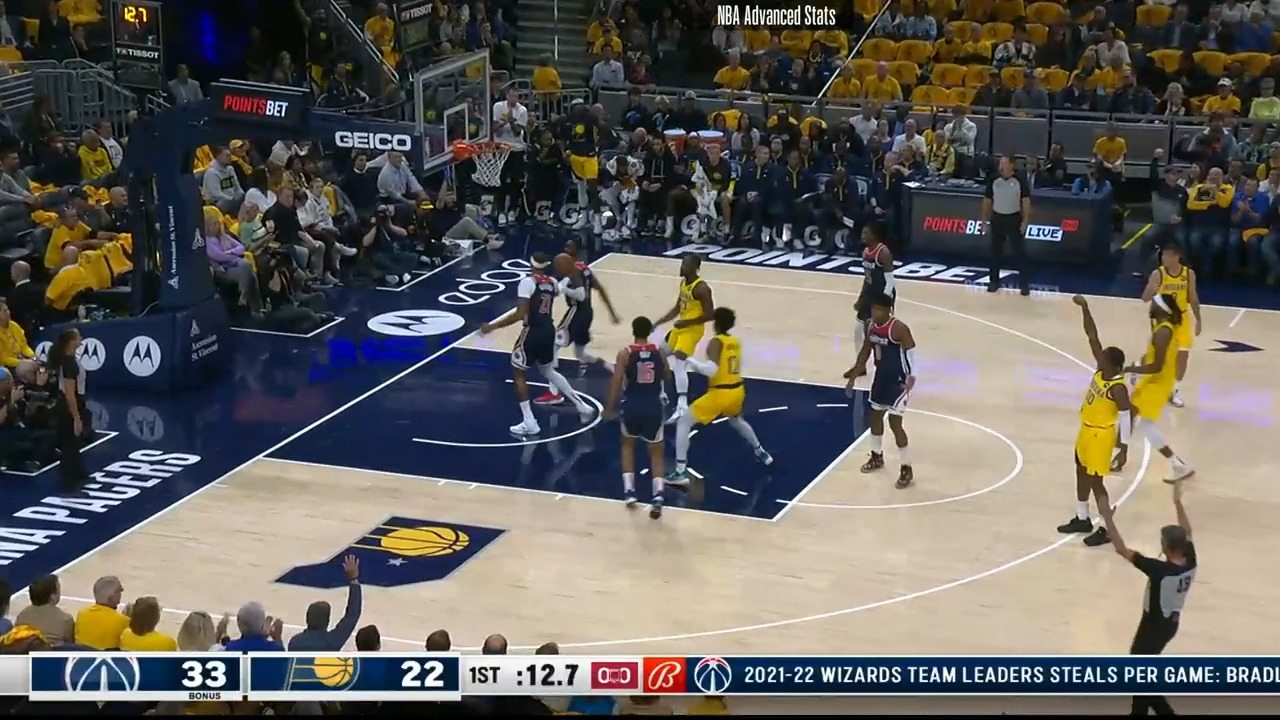net: (454, 136, 516, 190)
player: (666, 302, 778, 480), (482, 249, 585, 439), (1060, 292, 1135, 548), (599, 311, 679, 519), (1126, 273, 1198, 491), (840, 293, 917, 493), (654, 251, 725, 425), (551, 239, 623, 408), (1136, 241, 1202, 417), (840, 221, 895, 366)
referee: (1107, 472, 1199, 657), (980, 156, 1036, 302)
